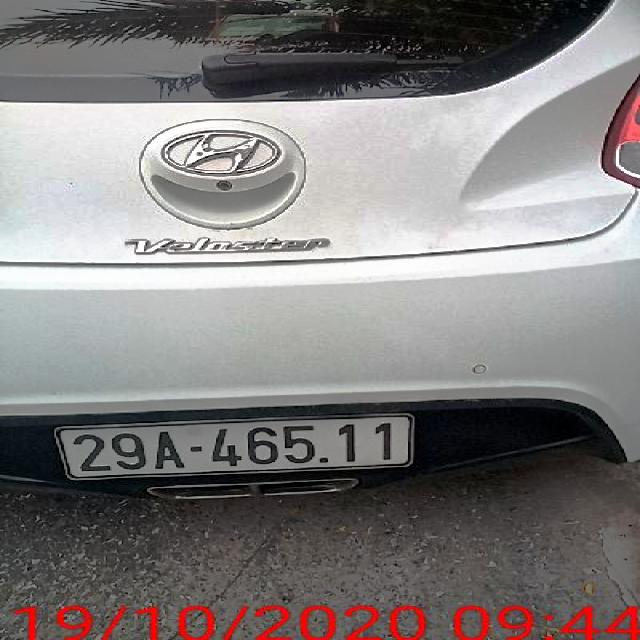license_plate: (59, 417, 414, 480)
